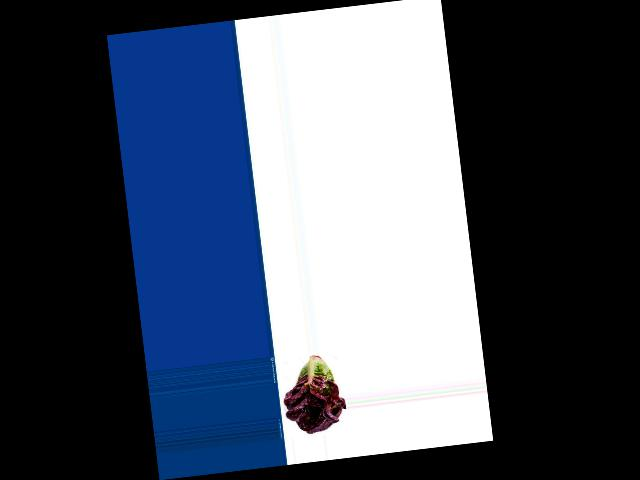lettuce: (278, 352, 346, 435)
